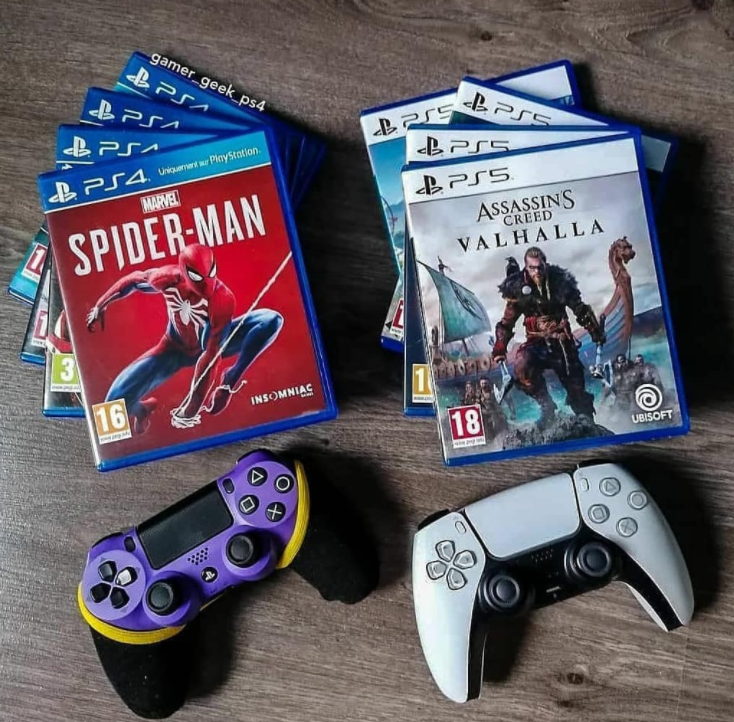gamingconsole: (76, 450, 379, 712), (411, 465, 696, 701)
